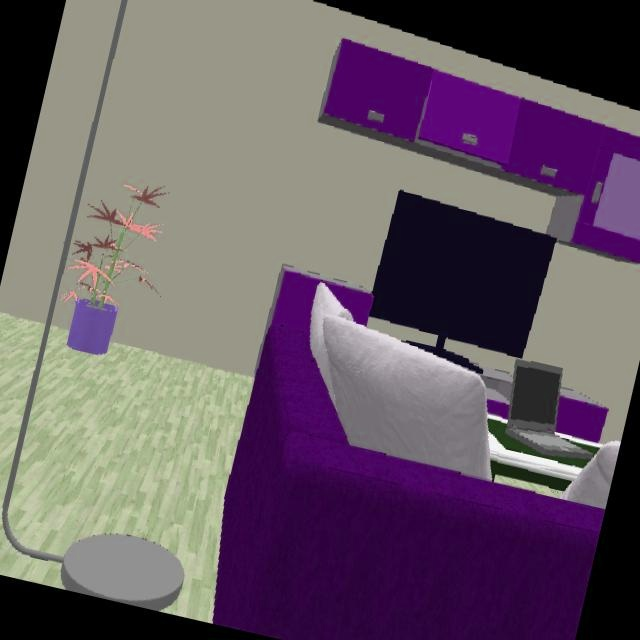cabinet: (318, 38, 640, 262)
laptop: (505, 360, 592, 461)
monitor: (369, 190, 557, 374)
pillow: (309, 283, 492, 481), (559, 440, 620, 510)
sofa: (212, 326, 604, 640)
